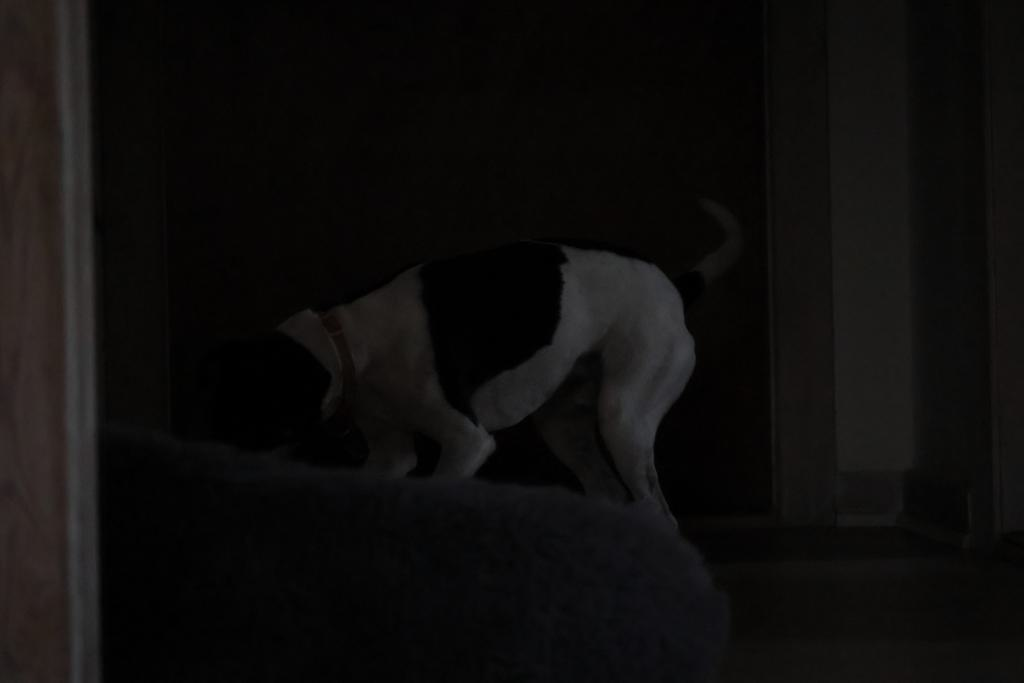Dog: (200, 186, 755, 565)
